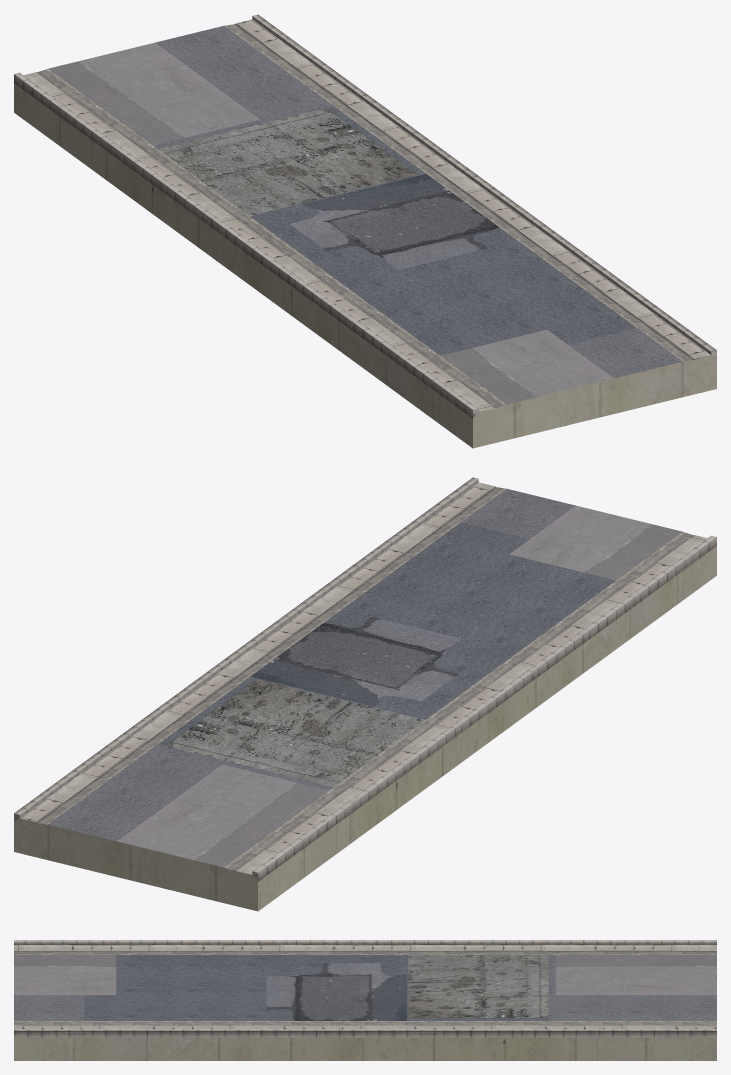
File: road_c1_st2.fbx
The picture shows the model from 3 angles, top to bottom: view 1: azimuth 30°, elevation 25°; view 2: azimuth 150°, elevation 25°; view 3: azimuth 270°, elevation 25°; orthographic projection. The views are drawn at different scales.
Parts seen in each view (by area): view 1: road_c1_st2; view 2: road_c1_st2; view 3: road_c1_st2.
Part boxes in pixels (x1,y1,x2,y2): road_c1_st2: [14, 14, 716, 448]; road_c1_st2: [14, 477, 716, 911]; road_c1_st2: [14, 940, 716, 1060].
Bounding box in the file's own units: 430 × 65 × 1400.
